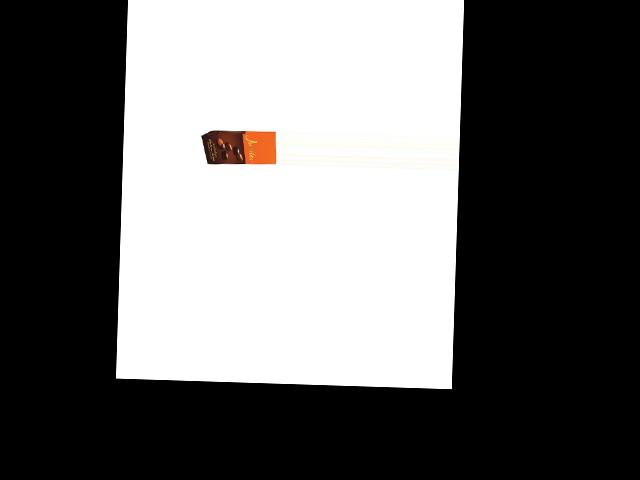chocolate: (201, 127, 276, 170)
